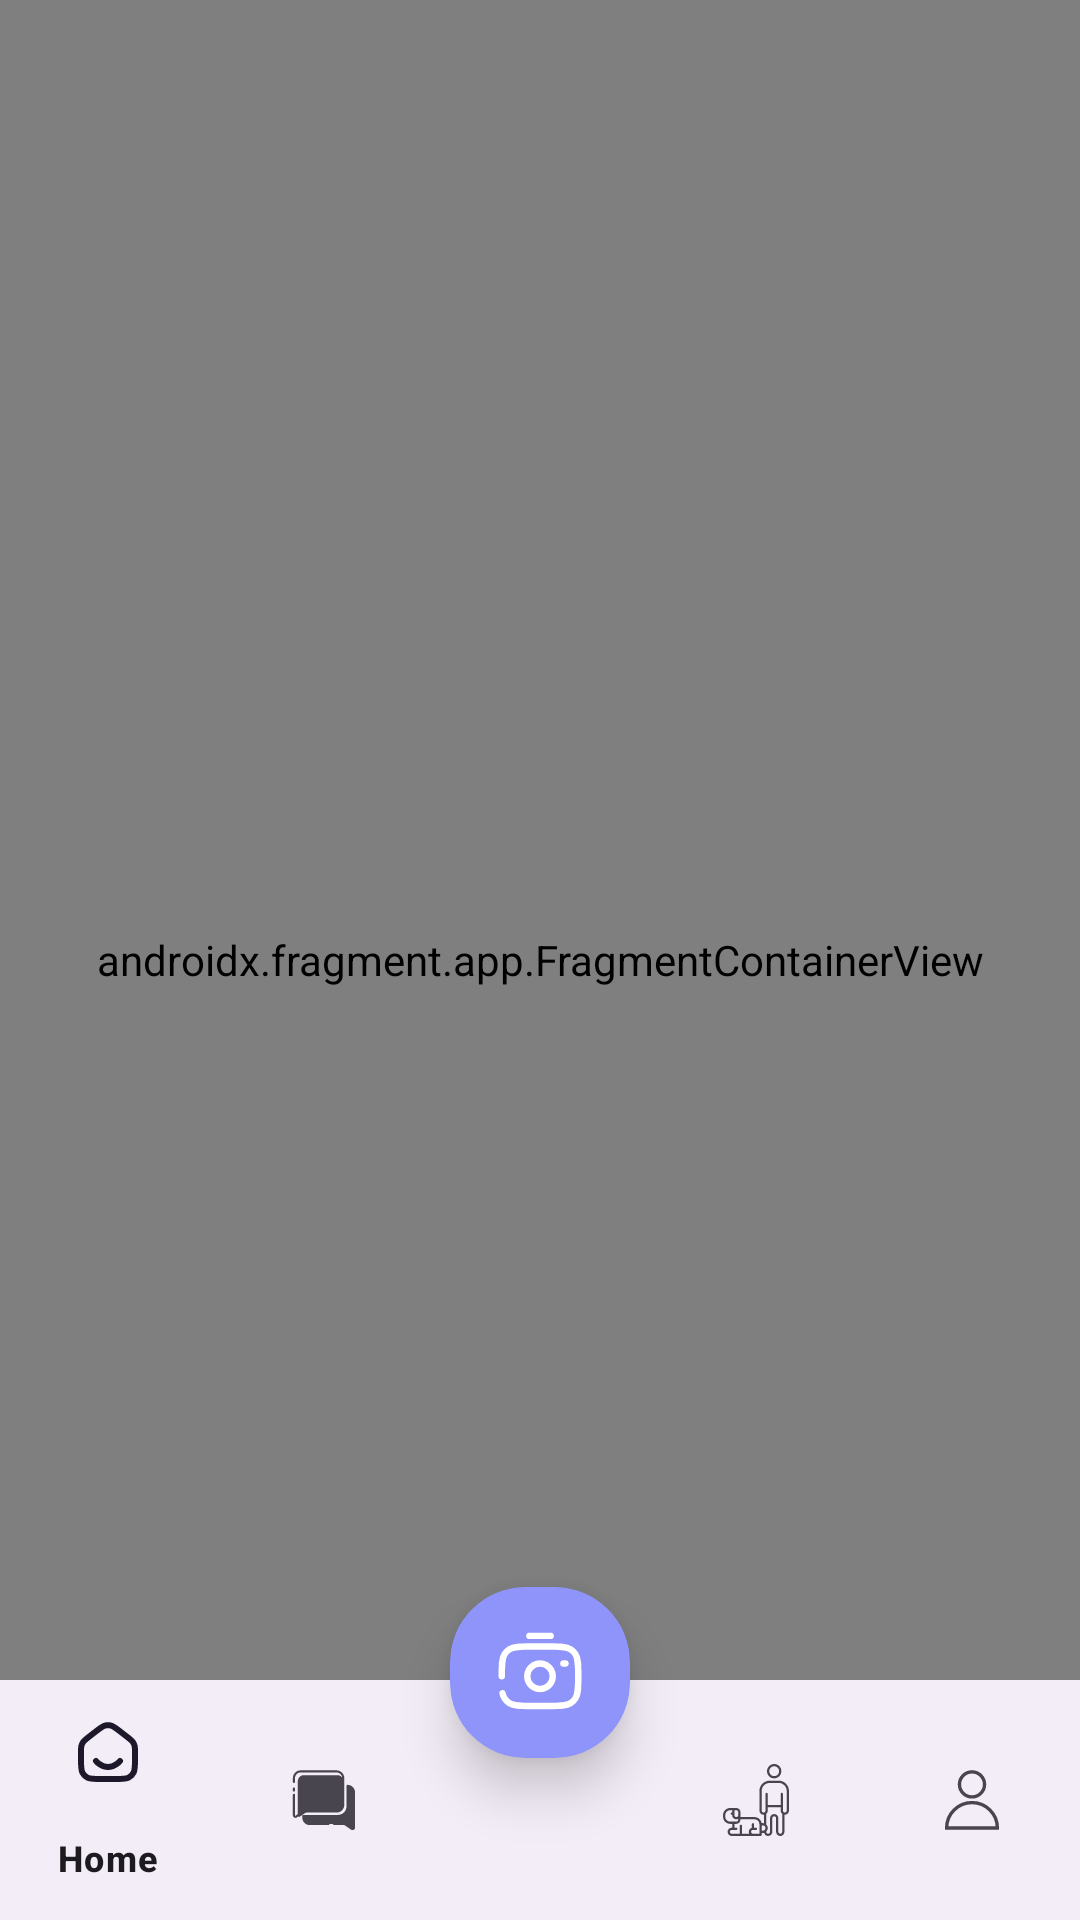

Screen size 1080px×1920px. Icon name, then its box in pixels as (x1, y1, x2, y2):
camera: (498, 1632, 582, 1710)
